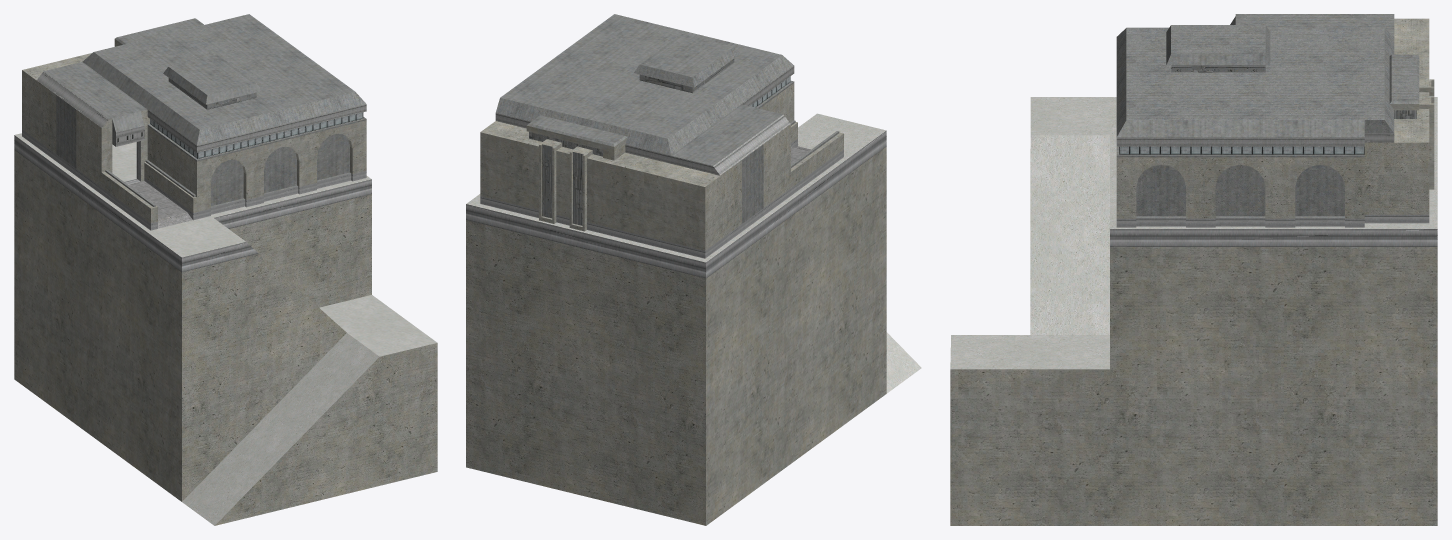
Rendered from ply_all_house_sm_s01_fp1_r0_exterior_mesh_l0.fbx.
3 views of the same model, side by side, from view 1: azimuth 30°, elevation 25°; view 2: azimuth 150°, elevation 25°; view 3: azimuth 270°, elevation 25° (orthographic). The views are drawn at different scales.
Visible parts, largest first — view 1: mesh_node; view 2: mesh_node; view 3: mesh_node.
Part boxes in pixels (left/top/right/bottom): mesh_node: left=14, top=14, right=437, bottom=525; mesh_node: left=466, top=14, right=921, bottom=525; mesh_node: left=950, top=14, right=1437, bottom=525.
Bounding box in the file's own units: 15.74 × 23.24 × 24.55.
